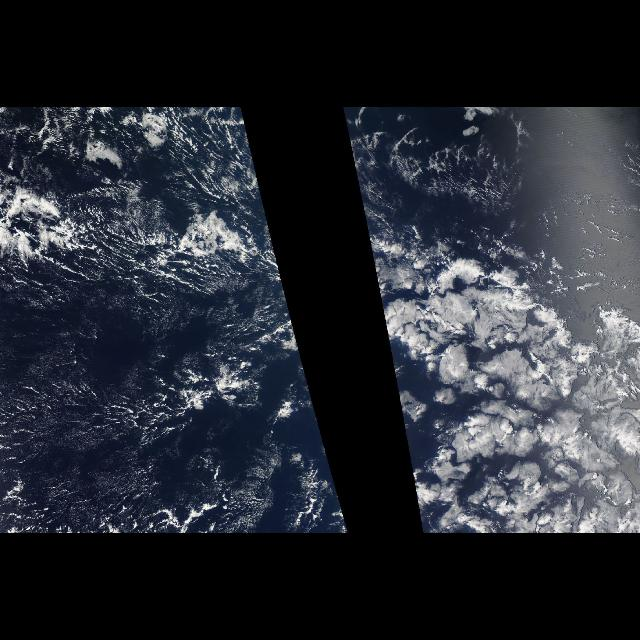Flower: (418, 249, 634, 503)
Gravel: (12, 126, 258, 298)
Sugar: (8, 342, 178, 534)
